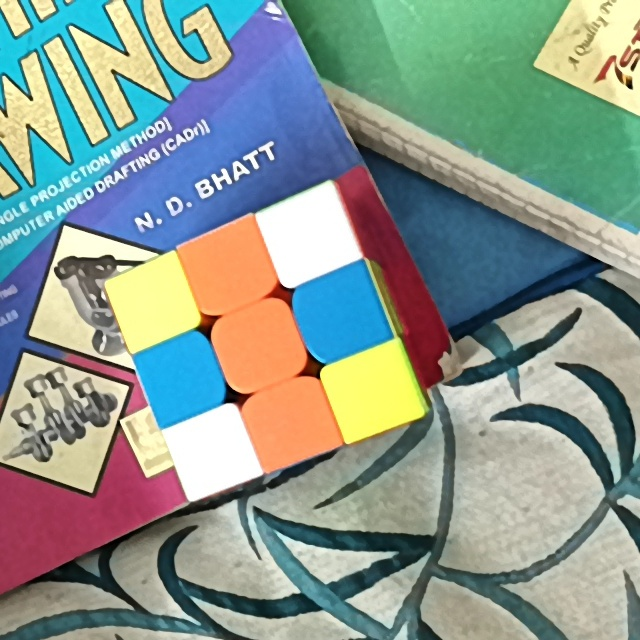tile: (226, 315, 290, 377), (309, 285, 373, 345), (197, 237, 262, 296), (124, 272, 183, 332), (282, 205, 338, 268), (258, 396, 323, 449), (343, 363, 401, 420), (150, 352, 213, 403), (184, 426, 242, 478)
